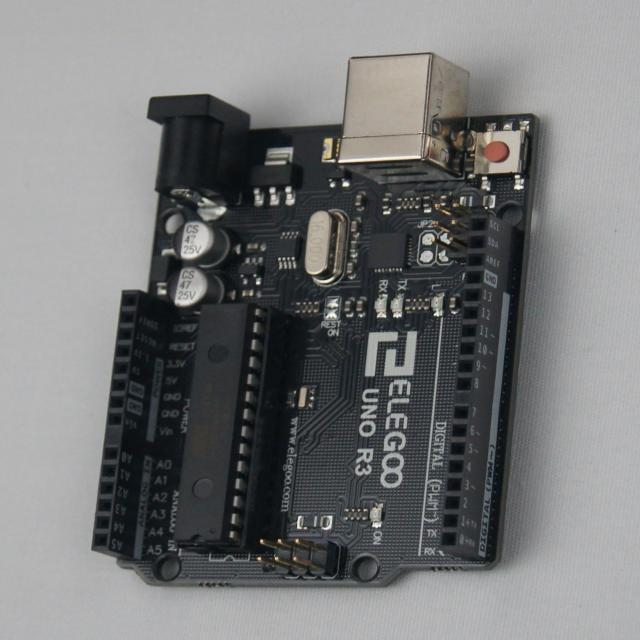Arduino Uno -Black-: (93, 54, 536, 585)
